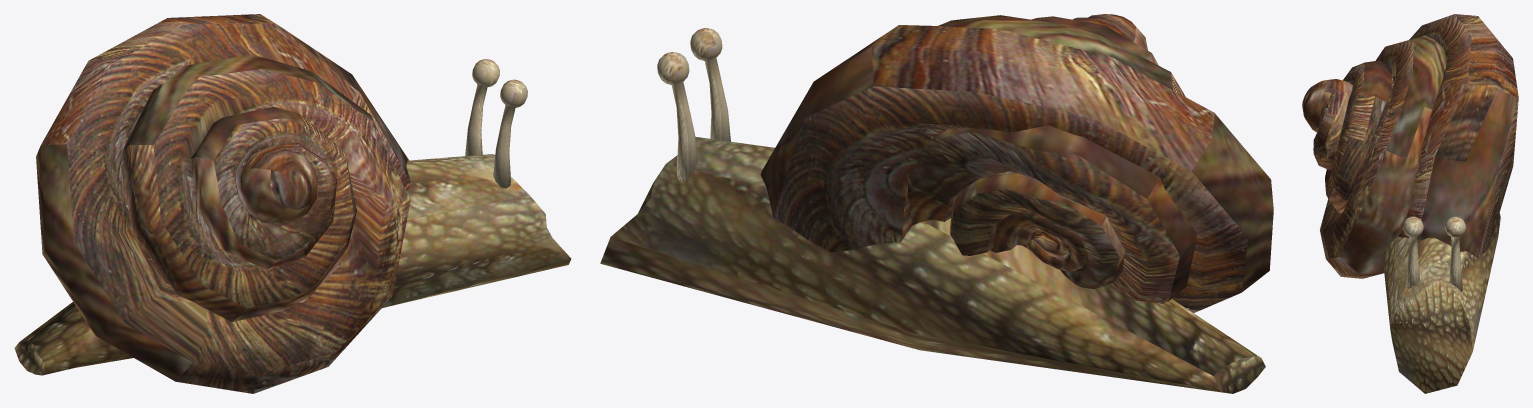
The model's file is snail.fbx.
3 views of the same model, side by side, from view 1: azimuth 30°, elevation 25°; view 2: azimuth 150°, elevation 25°; view 3: azimuth 270°, elevation 25° (orthographic). The views are drawn at different scales.
Visible parts, largest first — view 1: shell, body; view 2: shell, body; view 3: shell, body.
Part boxes in pixels (<box>): shell: <box>36,14,411,393</box>; body: <box>14,59,571,375</box>; shell: <box>760,14,1273,312</box>; body: <box>600,28,1265,393</box>; shell: <box>1302,14,1518,278</box>; body: <box>1383,213,1500,393</box>.
Size of the model in its own units: 361 by 196 by 167.
